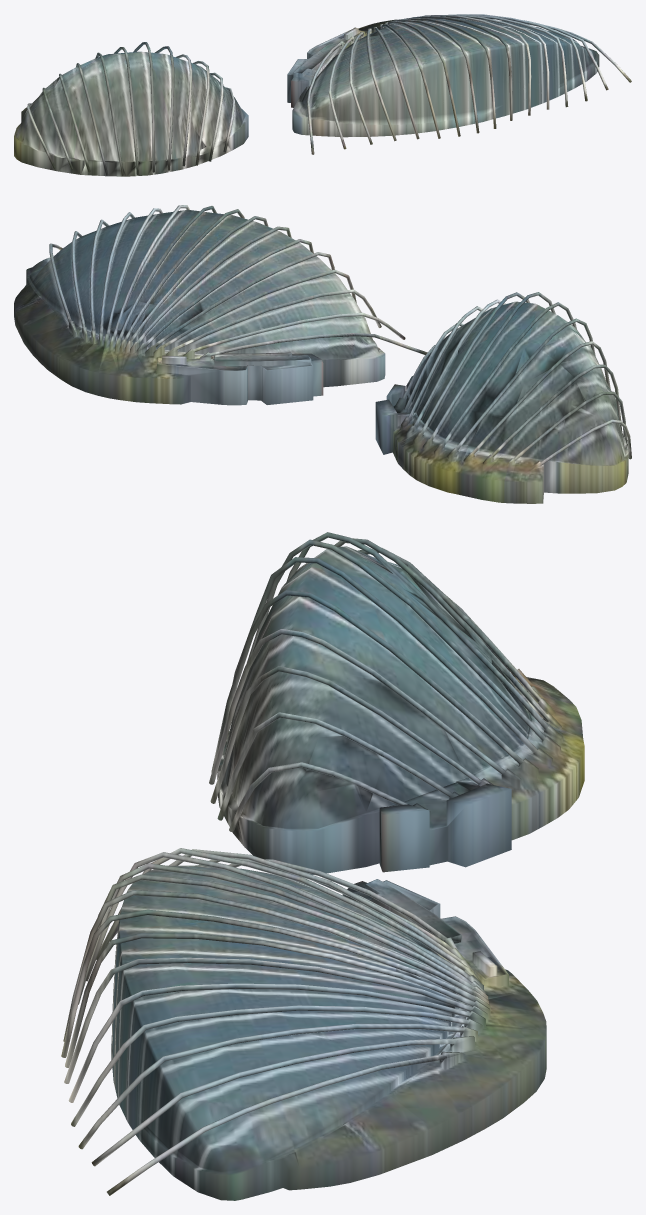
3 renders of one model, top to bottom at view 1: azimuth 30°, elevation 25°; view 2: azimuth 150°, elevation 25°; view 3: azimuth 270°, elevation 25°, orthographic. The views are drawn at different scales.
Visible parts, largest first — view 1: Flower Dome, Cloud Forest; view 2: Flower Dome, Cloud Forest; view 3: Flower Dome, Cloud Forest.
Boxes of the visible parts, left/top/right/bottom form: Flower Dome: left=287, top=14, right=631, bottom=154; Cloud Forest: left=14, top=42, right=248, bottom=176; Flower Dome: left=14, top=205, right=427, bottom=405; Cloud Forest: left=375, top=292, right=631, bottom=503; Flower Dome: left=61, top=848, right=546, bottom=1200; Cloud Forest: left=209, top=532, right=584, bottom=874.
Size of the model in its own units: 316 by 62.87 by 134.
2 materials, 2 textured.
